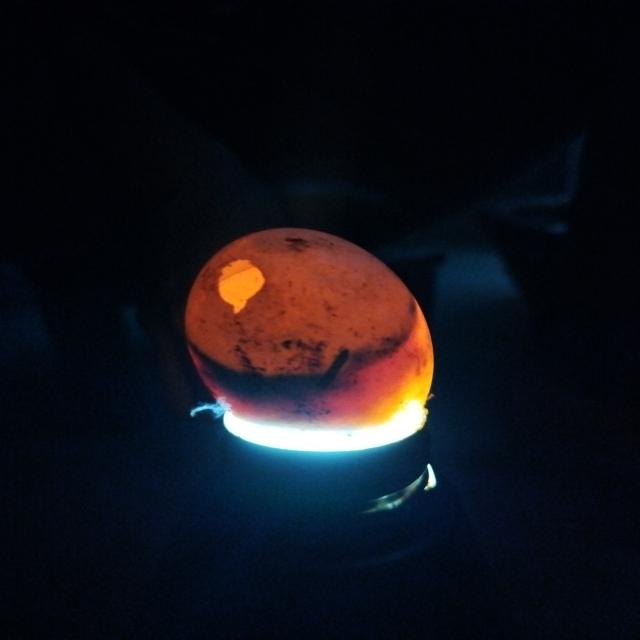Area Infectada: (186, 293, 418, 407)
